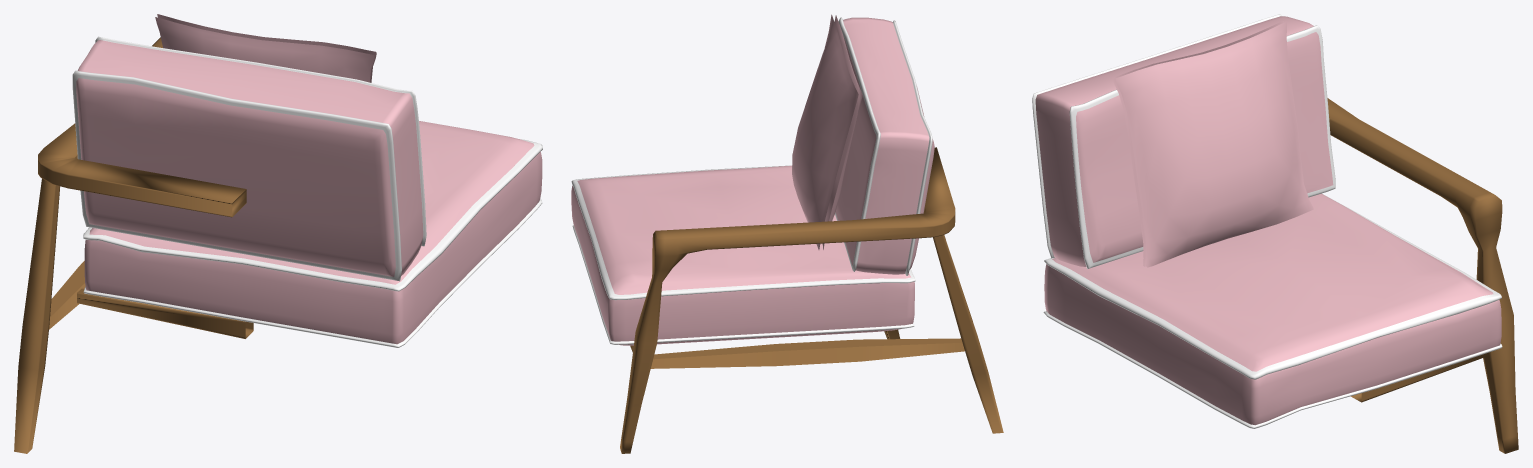
The model's file is chair.gltf.
The picture shows the model from 3 angles, left to right: view 1: azimuth 30°, elevation 25°; view 2: azimuth 150°, elevation 25°; view 3: azimuth 270°, elevation 25°; orthographic projection. The views are drawn at different scales.
Parts seen in each view (by area): view 1: 290.000, 286.000, Cube.014, 289.000, 281.000, 285.000; view 2: 286.000, Cube.014, 290.000, 281.000, 285.000, 289.000; view 3: 286.000, 281.000, 290.000, Cube.014, 285.000, 289.000.
Part boxes in pixels (<box>): 290.000: <box>76,40,423,276</box>; 286.000: <box>84,121,542,344</box>; Cube.014: <box>14,37,253,453</box>; 289.000: <box>72,36,426,281</box>; 281.000: <box>155,14,376,82</box>; 285.000: <box>83,139,542,347</box>; 286.000: <box>571,165,914,345</box>; Cube.014: <box>620,147,1003,453</box>; 290.000: <box>835,17,934,274</box>; 281.000: <box>792,14,862,249</box>; 285.000: <box>571,165,915,344</box>; 289.000: <box>835,17,932,275</box>; 286.000: <box>1044,193,1501,425</box>; 281.000: <box>1112,21,1313,267</box>; 290.000: <box>1035,16,1333,266</box>; Cube.014: <box>1327,98,1518,453</box>; 285.000: <box>1043,194,1502,428</box>; 289.000: <box>1032,14,1335,268</box>.
Bounding box in the file's own units: 0.5925 × 0.4151 × 0.5145.
